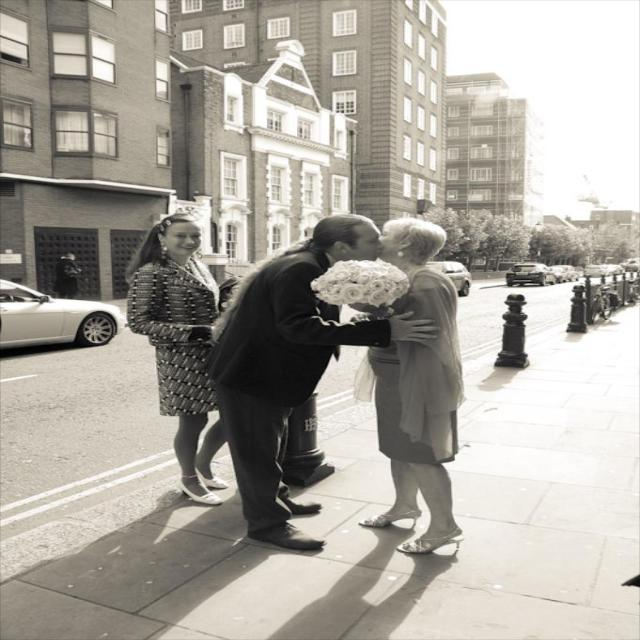car: (502, 263, 548, 281), (620, 255, 637, 269)
